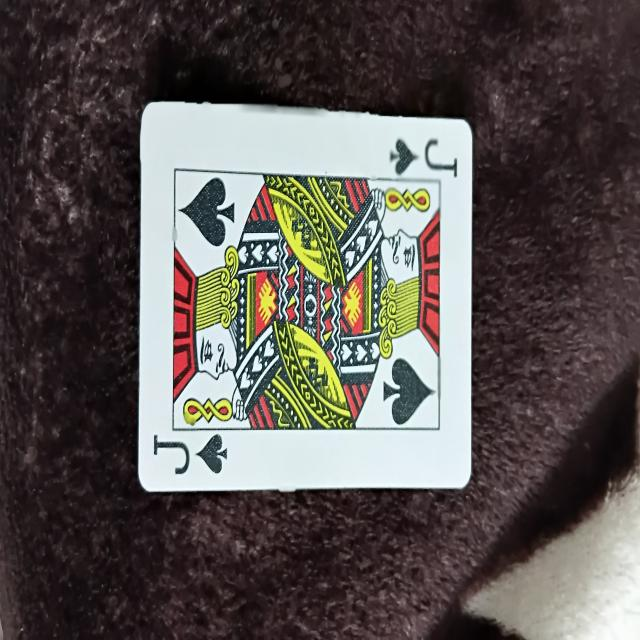JS: (136, 116, 475, 501)
